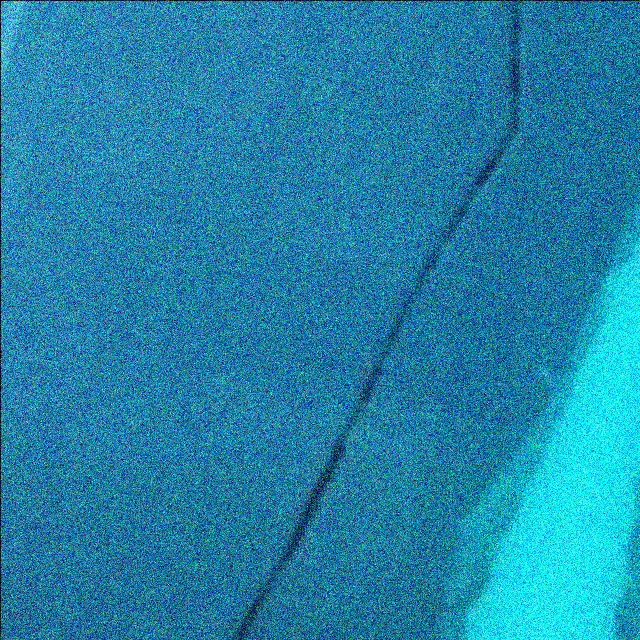SurfaceCrack: (218, 0, 540, 640)
